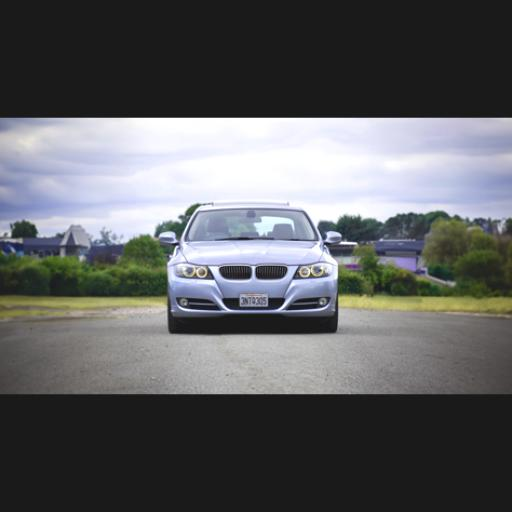sedan: (159, 200, 339, 332)
